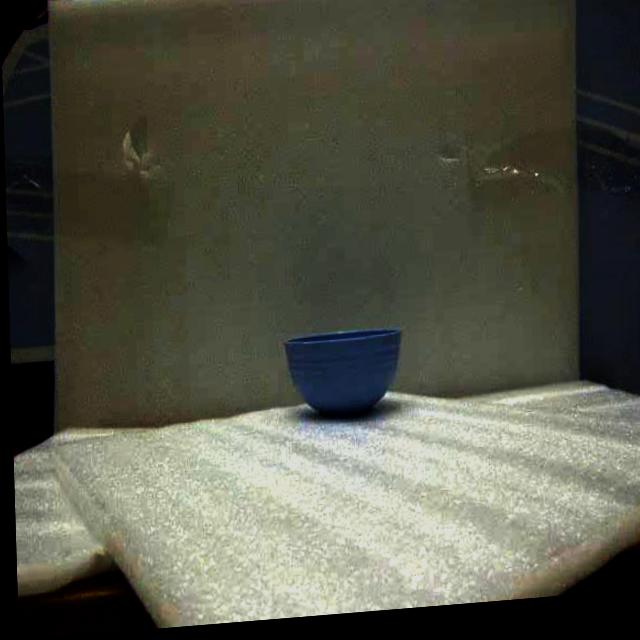Bowl: (285, 329, 400, 417)
